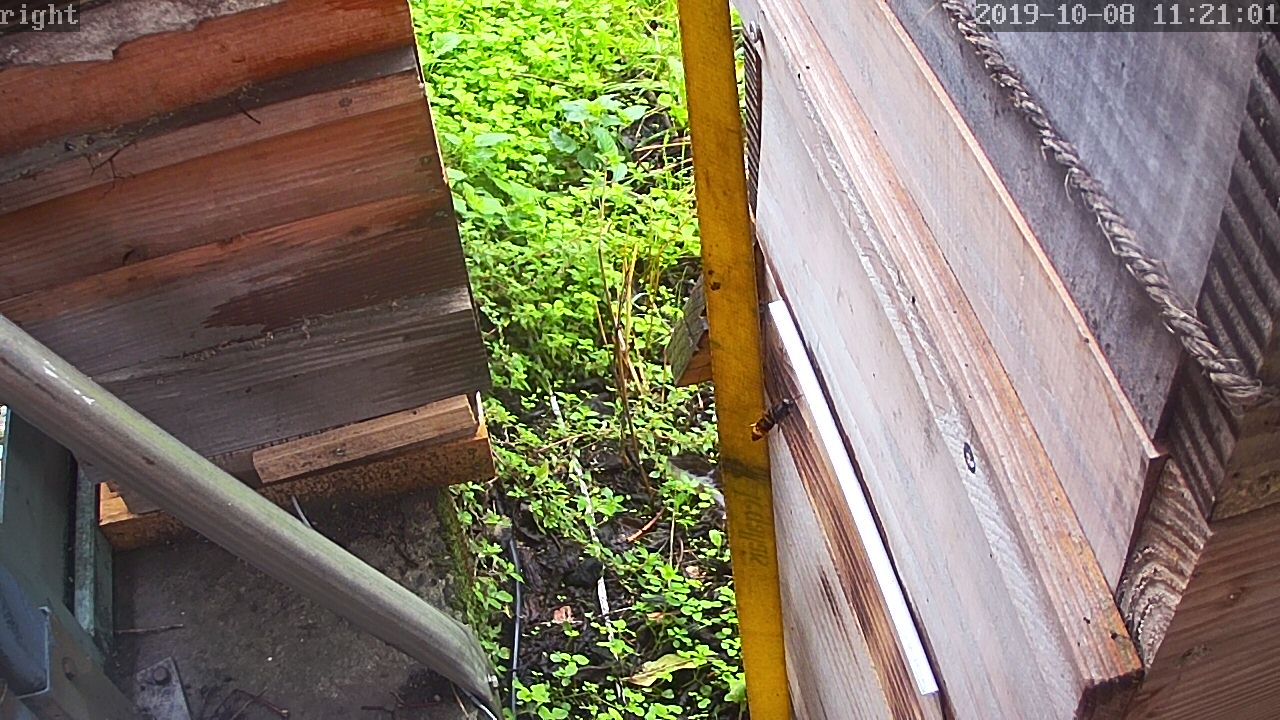hornet: (750, 389, 796, 437)
